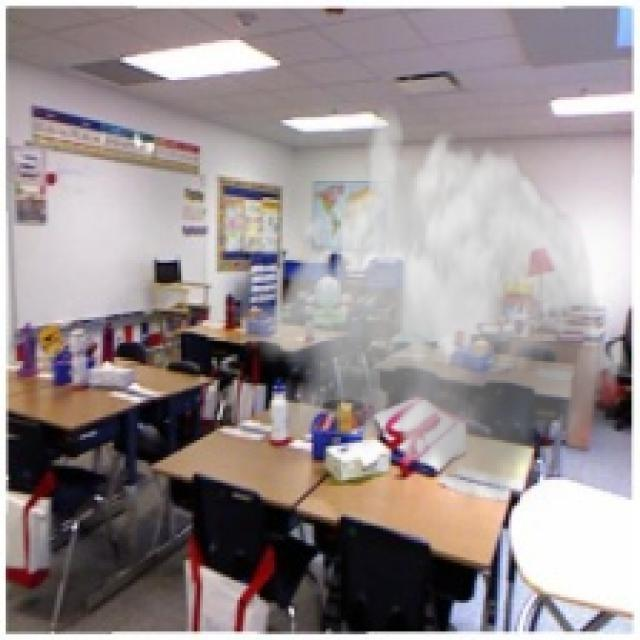Smoke: (237, 100, 632, 512)
